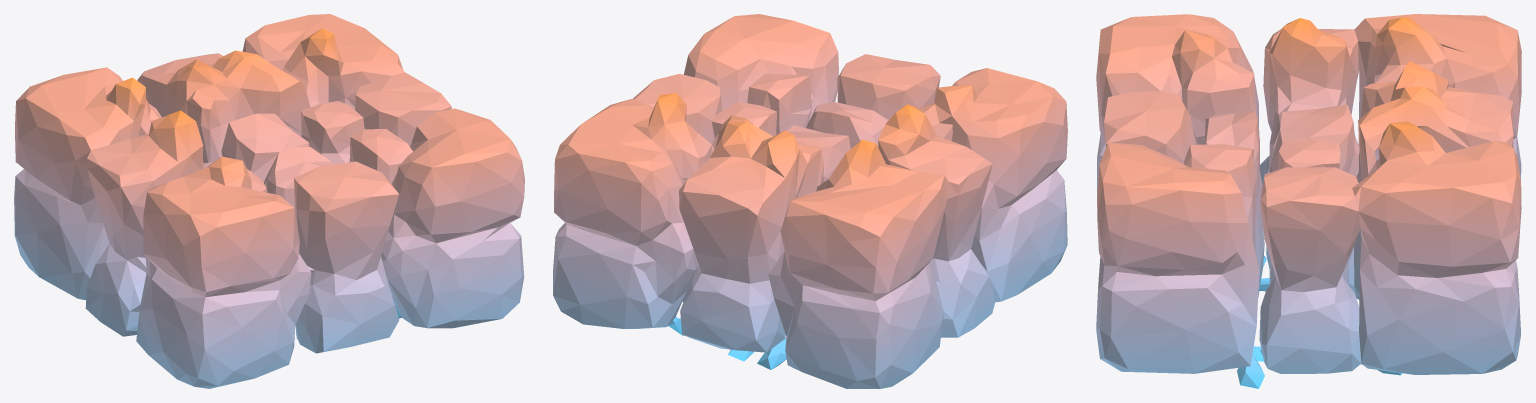
Rendered from 130_cyb_laser_gradient_fish_scales_2903_2026_10_03_c7c105.glb.
3 views of the same model, side by side, from view 1: azimuth 30°, elevation 25°; view 2: azimuth 150°, elevation 25°; view 3: azimuth 270°, elevation 25° (orthographic). The views are drawn at different scales.
Parts seen in each view (by area): view 1: geometry_0; view 2: geometry_0; view 3: geometry_0.
Part boxes in pixels (box(x1,y1,x2,y2)): geometry_0: box(14, 14, 524, 388); geometry_0: box(553, 14, 1067, 388); geometry_0: box(1096, 14, 1521, 388).
Size of the model in its own units: 0.9983 by 0.6773 by 0.9982.
